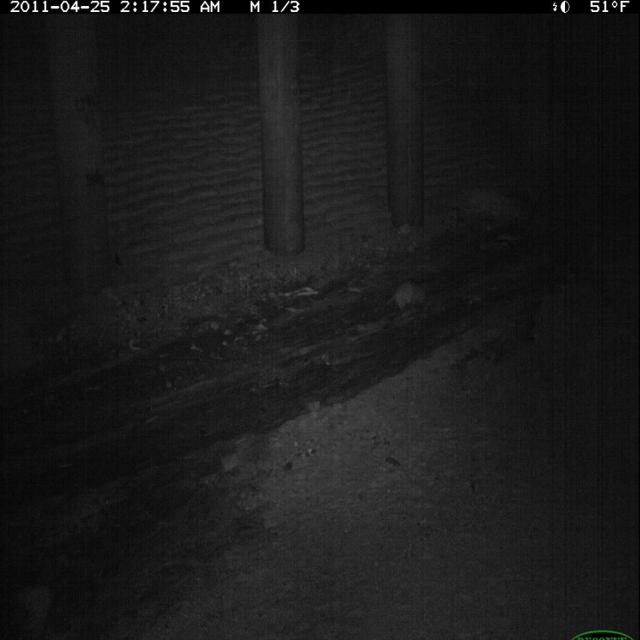opossum: (380, 278, 430, 318)
